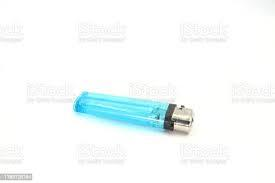lighter: (73, 88, 193, 139)
